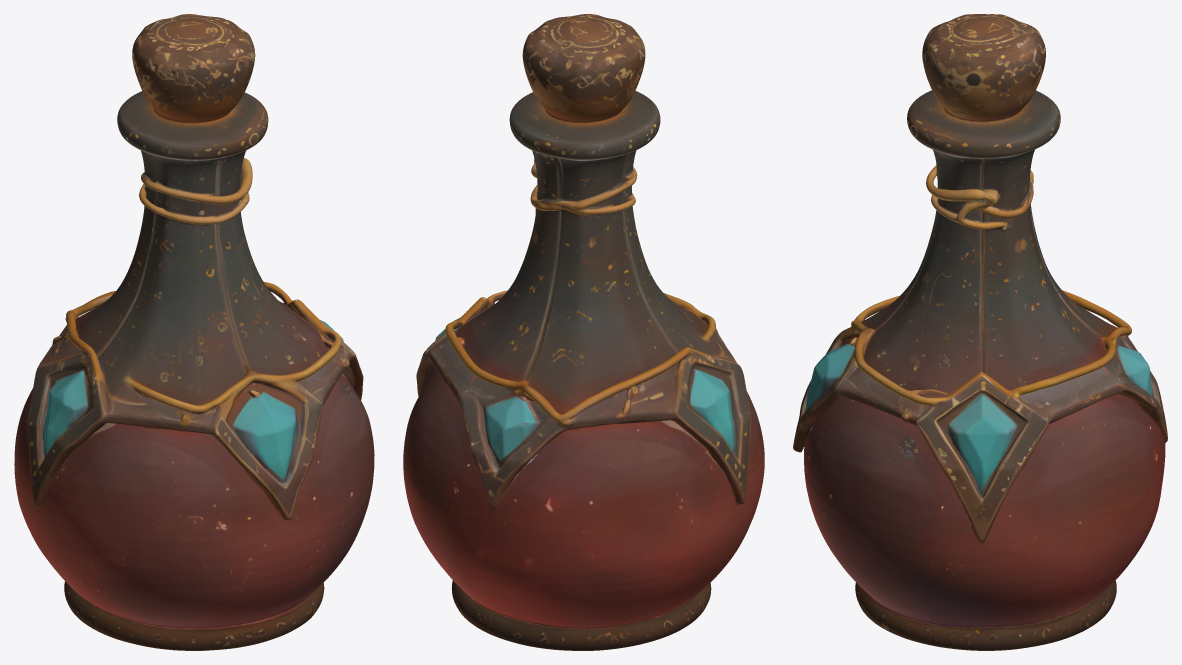
Rendered from قارورة_الشفاء.glb.
The picture shows the model from 3 angles, left to right: view 1: azimuth 30°, elevation 25°; view 2: azimuth 150°, elevation 25°; view 3: azimuth 270°, elevation 25°; orthographic projection.
Visible parts, largest first — view 1: tripo_node_e947a3cd-d77b-459c-88e5-e9f911d4ac54; view 2: tripo_node_e947a3cd-d77b-459c-88e5-e9f911d4ac54; view 3: tripo_node_e947a3cd-d77b-459c-88e5-e9f911d4ac54.
Boxes of the visible parts, bbox=[...] form: tripo_node_e947a3cd-d77b-459c-88e5-e9f911d4ac54: bbox=[14, 14, 374, 650]; tripo_node_e947a3cd-d77b-459c-88e5-e9f911d4ac54: bbox=[403, 14, 764, 650]; tripo_node_e947a3cd-d77b-459c-88e5-e9f911d4ac54: bbox=[793, 14, 1167, 650].
Size of the model in its own units: 0.585 by 1 by 0.5897.
1 material, 1 textured.
